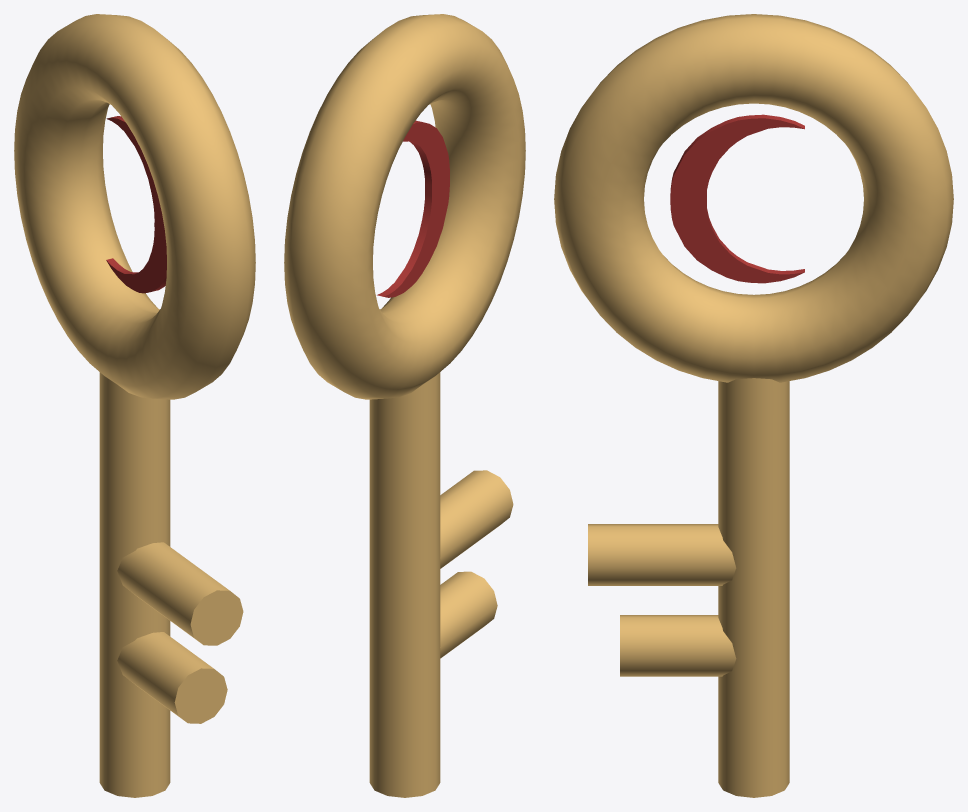
Rendered from gold key.glb.
3 renders of one model, left to right at view 1: azimuth 30°, elevation 25°; view 2: azimuth 150°, elevation 25°; view 3: azimuth 270°, elevation 25°, orthographic.
Visible parts, largest first — view 1: Real Key, Key Trunk, Key Tooth 1, Key Tooth 2, Moon; view 2: Real Key, Key Trunk, Key Tooth 1, Moon, Key Tooth 2; view 3: Real Key, Key Trunk, Key Tooth 1, Moon, Key Tooth 2.
Boxes of the visible parts, x1,y1,x2,y2 form: Real Key: [14, 14, 255, 399]; Key Trunk: [99, 372, 170, 797]; Key Tooth 1: [117, 542, 243, 645]; Key Tooth 2: [117, 632, 227, 723]; Moon: [106, 116, 166, 293]; Real Key: [284, 14, 525, 399]; Key Trunk: [369, 372, 440, 797]; Key Tooth 1: [440, 470, 513, 568]; Moon: [377, 120, 449, 297]; Key Tooth 2: [440, 571, 497, 658]; Real Key: [554, 14, 953, 382]; Key Trunk: [718, 378, 789, 797]; Key Tooth 1: [588, 524, 736, 585]; Moon: [670, 114, 804, 283]; Key Tooth 2: [620, 615, 736, 676].
Size of the model in its own units: 0.0664 by 0.6234 by 0.2953.
